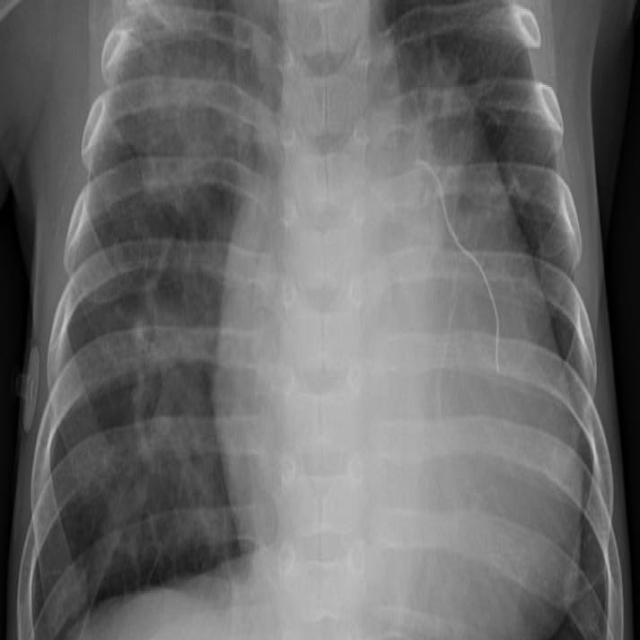low-pneumonia: (148, 373, 231, 556), (143, 58, 219, 213), (233, 5, 280, 186)
